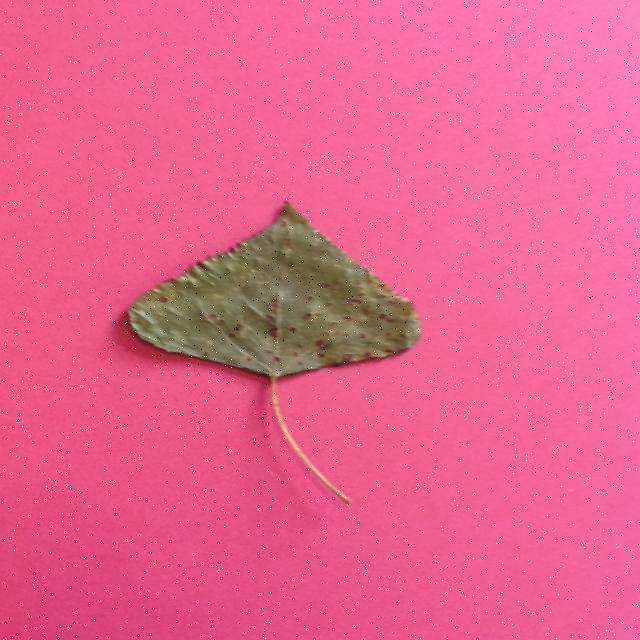foliage: (122, 198, 422, 507)
